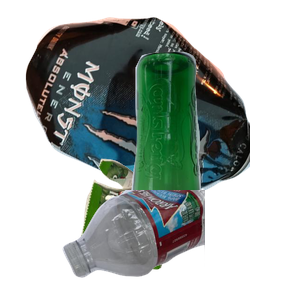glass: (129, 49, 300, 229)
metal: (23, 15, 263, 195)
plastic: (60, 190, 300, 280)
trash: (75, 156, 244, 300)
